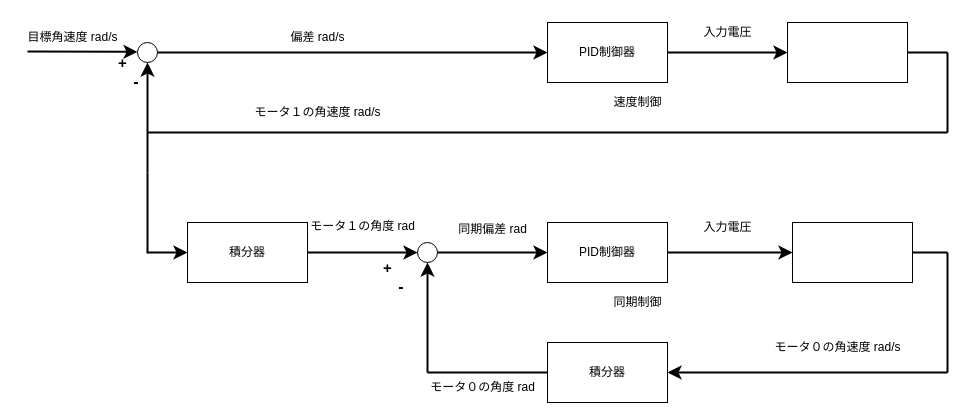
Some shapes in this 975 by 420 pixel diagram are drawn without their labels. The centre of each missing label's shape, as x and y in pixels:
"モータ０" goes at point 852,252.
"モータ１" goes at point 847,52.
